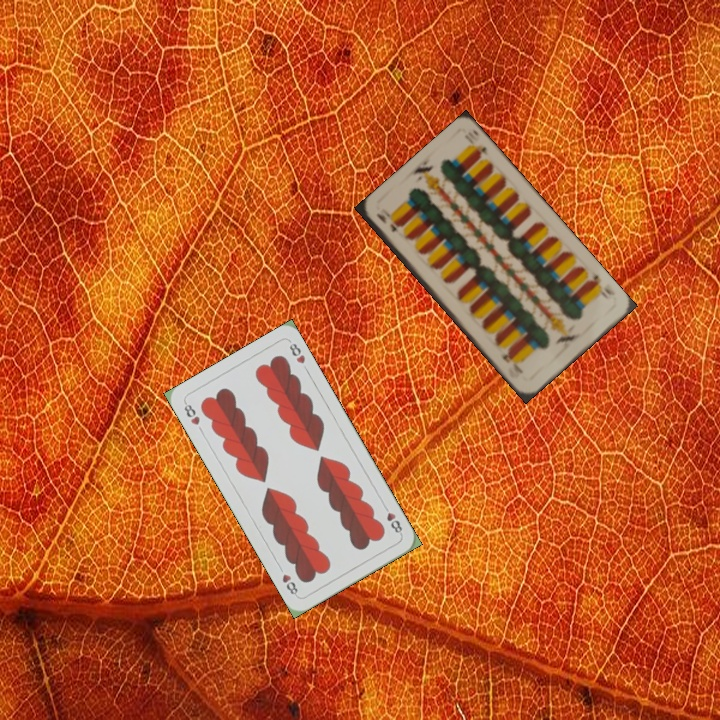E10: (584, 271, 618, 302), (372, 209, 401, 235)
H8: (379, 501, 405, 538), (180, 398, 202, 428)
